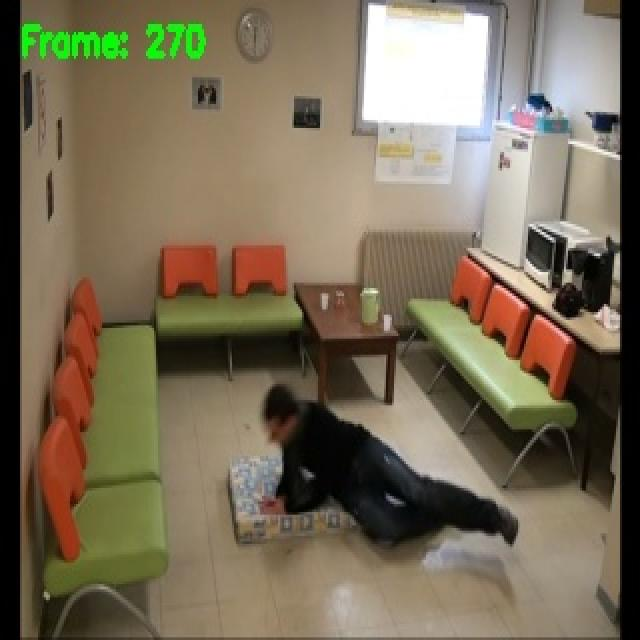Fall-Detected: (252, 379, 524, 570)
